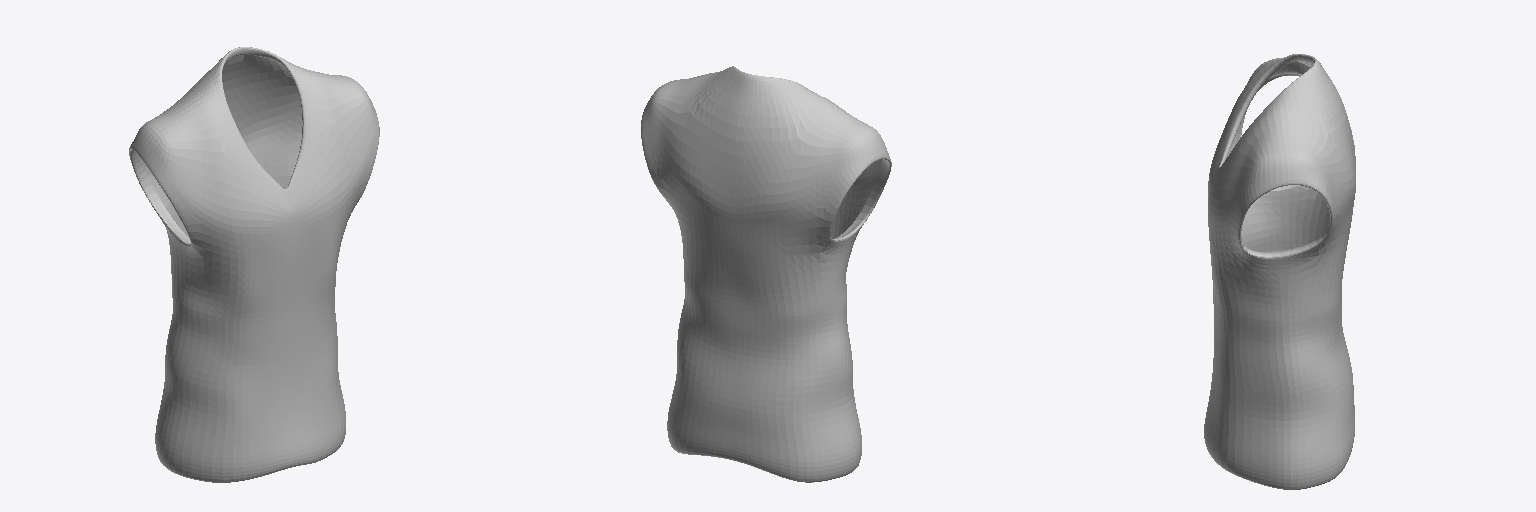
The model's file is sweater.obj.
3 views of the same model, side by side, from view 1: azimuth 30°, elevation 25°; view 2: azimuth 150°, elevation 25°; view 3: azimuth 270°, elevation 25° (orthographic).
Parts seen in each view (by area): view 1: polySurface18; view 2: polySurface18; view 3: polySurface18.
Part boxes in pixels (x1,y1,x2,y2): polySurface18: (129, 47, 379, 482); polySurface18: (641, 66, 891, 482); polySurface18: (1204, 54, 1355, 489).
Size of the model in its own units: 5.7 by 9.3 by 3.29.